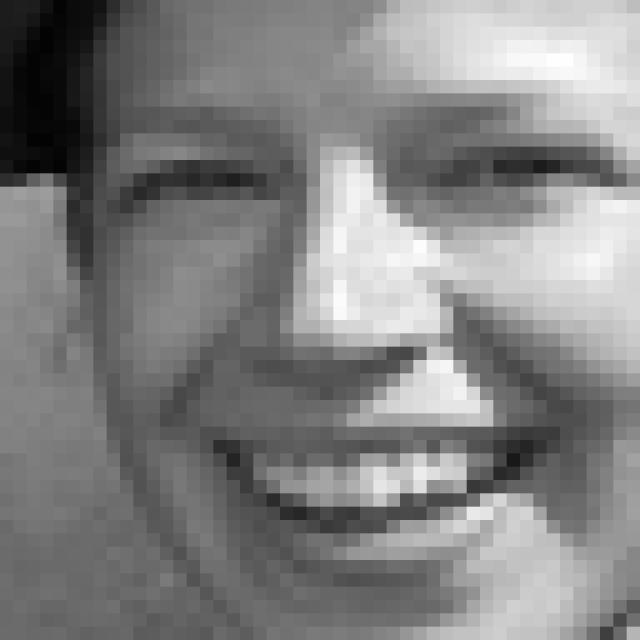happy: (110, 61, 640, 601)
